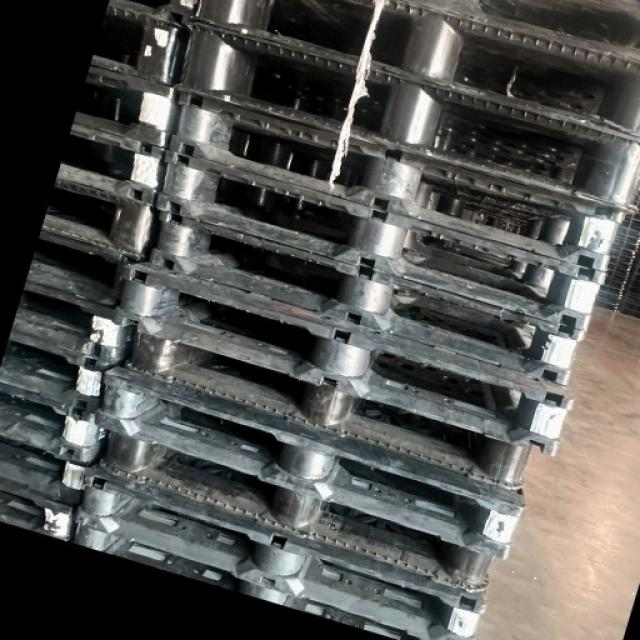igps: (169, 11, 640, 222), (111, 255, 581, 466), (160, 75, 640, 281), (150, 142, 610, 342), (88, 360, 532, 566), (100, 295, 535, 501), (145, 204, 592, 396), (92, 418, 498, 602), (72, 464, 491, 640), (189, 0, 640, 150), (68, 502, 482, 640), (332, 0, 640, 72), (0, 268, 145, 372), (34, 173, 164, 269), (48, 116, 175, 211), (21, 221, 148, 315), (70, 56, 188, 155), (0, 375, 114, 476), (0, 322, 111, 417), (82, 0, 198, 89), (0, 430, 103, 511), (0, 469, 88, 548), (98, 0, 210, 33)
